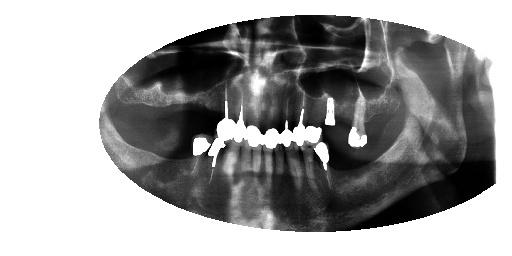Fillings: (346, 91, 371, 151), (263, 97, 280, 149), (306, 94, 323, 145), (246, 98, 263, 147)
Implant: (184, 134, 214, 182), (312, 141, 339, 191), (217, 86, 234, 142), (232, 85, 248, 143), (281, 92, 295, 149), (295, 92, 307, 147), (208, 134, 224, 175), (324, 92, 338, 128)
